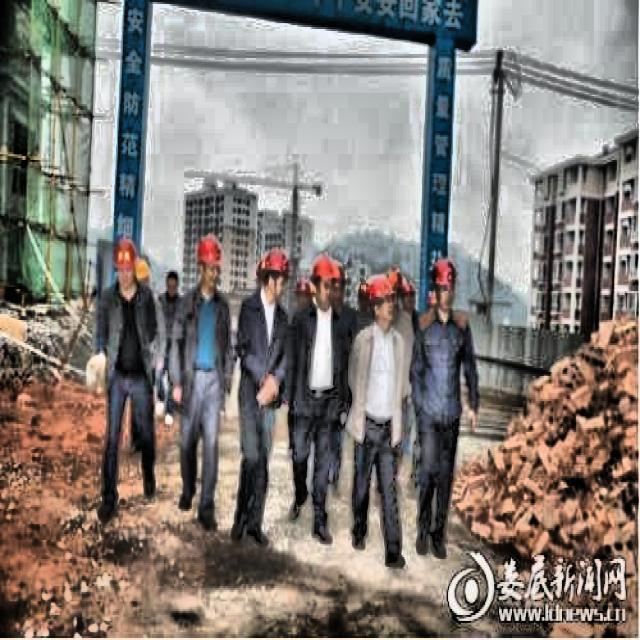helmet: (255, 245, 292, 306), (195, 231, 224, 297), (109, 233, 137, 295), (365, 274, 395, 328), (432, 253, 456, 320), (312, 247, 337, 308), (333, 258, 351, 312), (402, 276, 417, 312)
